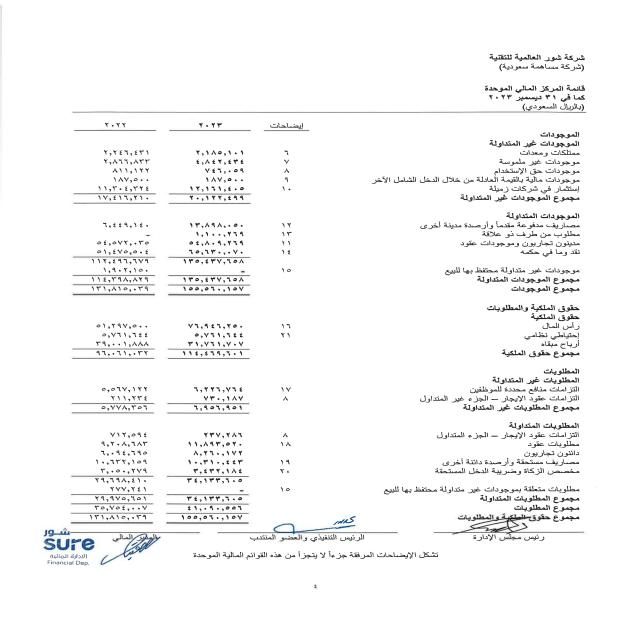financial_sheets: (470, 79, 595, 95)
table: (36, 111, 319, 534)
